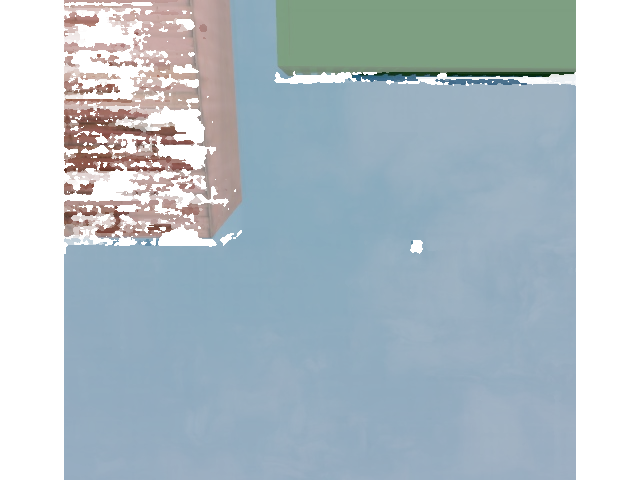container2: (270, 0, 640, 81)
container4: (0, 0, 249, 247)
